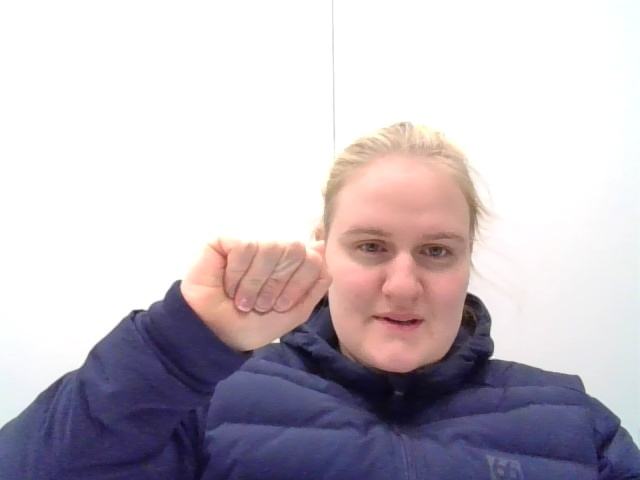down: (178, 215, 335, 384)
